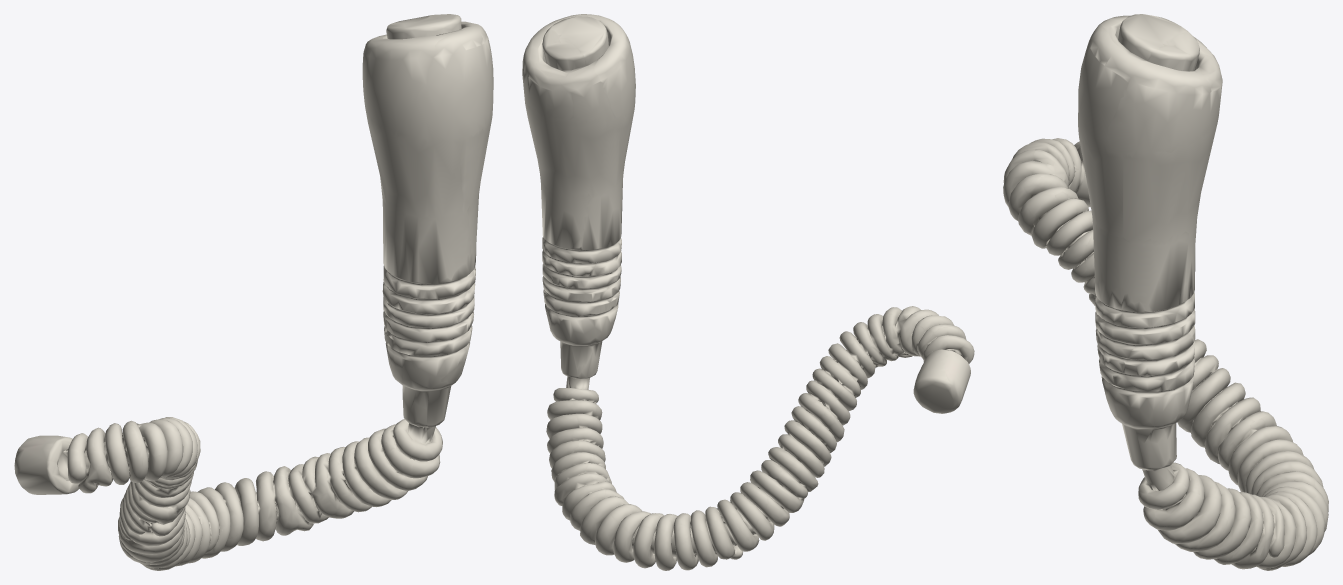
File: callbell.glb
The picture shows the model from 3 angles, left to right: view 1: azimuth 30°, elevation 25°; view 2: azimuth 150°, elevation 25°; view 3: azimuth 270°, elevation 25°; orthographic projection. The views are drawn at different scales.
Size of the model in its own units: 1.77 by 1.9 by 0.9463.
Materials: 1 (1 with a texture image).
